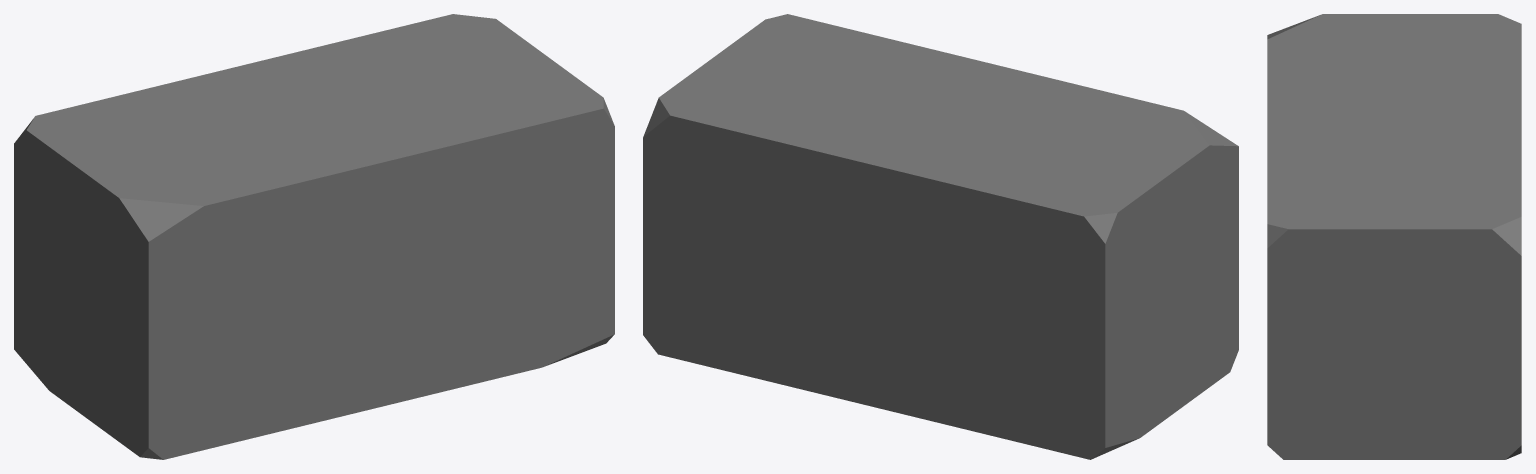
Rendered from Brick_03.fbx.
The picture shows the model from 3 angles, left to right: view 1: azimuth 30°, elevation 25°; view 2: azimuth 150°, elevation 25°; view 3: azimuth 270°, elevation 25°; orthographic projection. The views are drawn at different scales.
Parts seen in each view (by area): view 1: Brick_03_LOD0; view 2: Brick_03_LOD0; view 3: Brick_03_LOD0.
Part boxes in pixels (x1,y1,x2,y2): Brick_03_LOD0: [14, 14, 614, 459]; Brick_03_LOD0: [643, 14, 1238, 459]; Brick_03_LOD0: [1267, 14, 1521, 459].
Size of what is drawn, in the model's own units: 0.7598 by 0.3799 by 0.3799.
